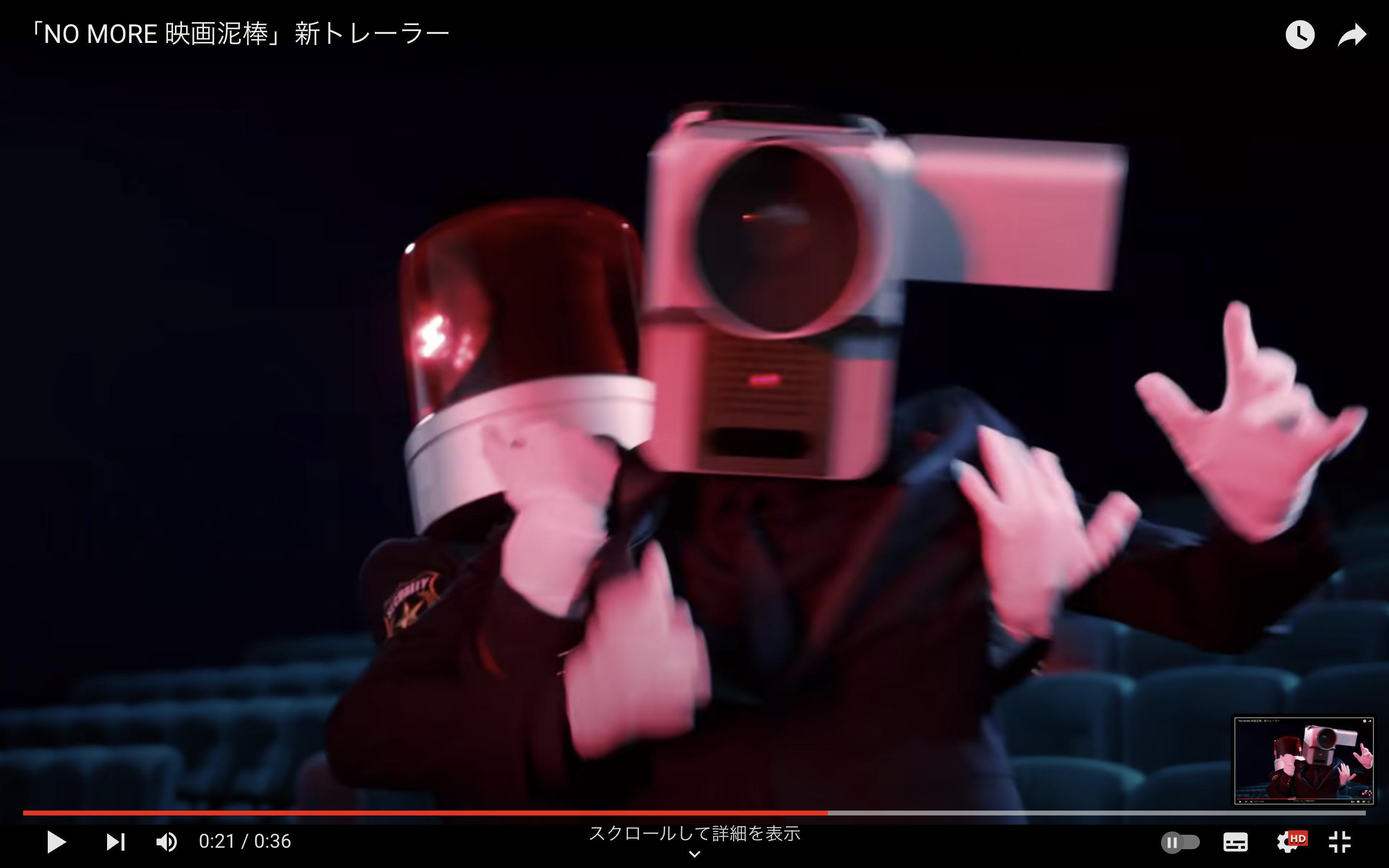no more kid: (630, 85, 1143, 488)
